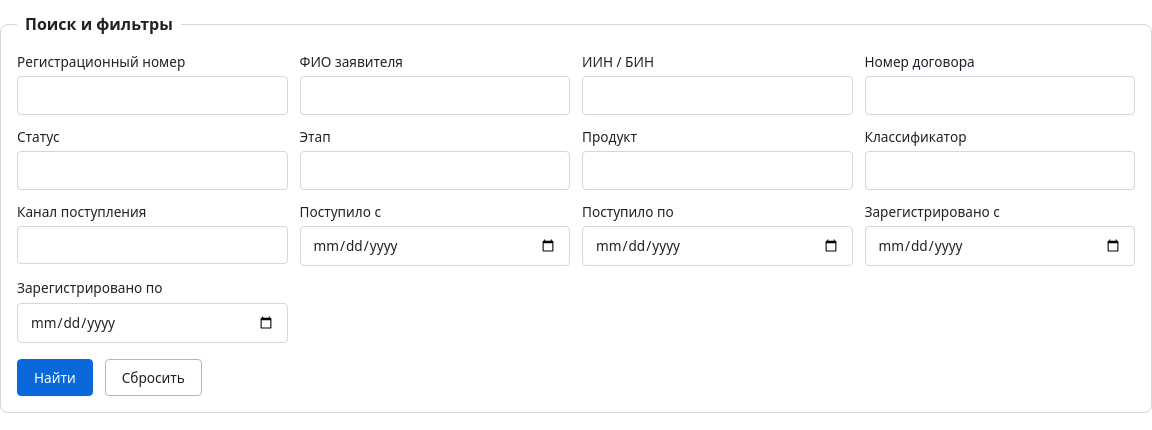
Test: TicketSearchForm › clears the fields and applies empty values on reset
Type "AP-2026-000123" into the field labelled "Регистрационный номер".
click(152, 96); type("AP-2026-000123")  # box [17,76,288,115]
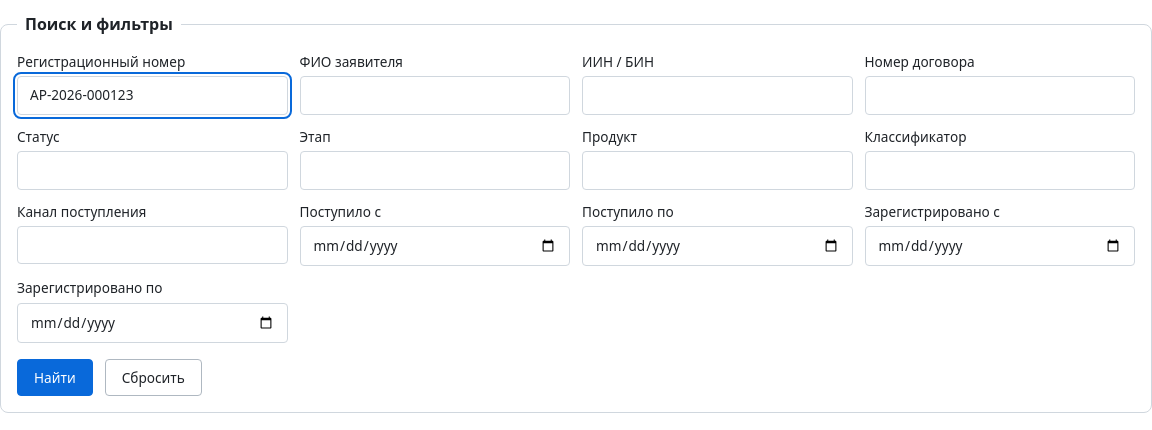
Click the button "Сбросить".
click(153, 378)  # box [105,359,202,396]
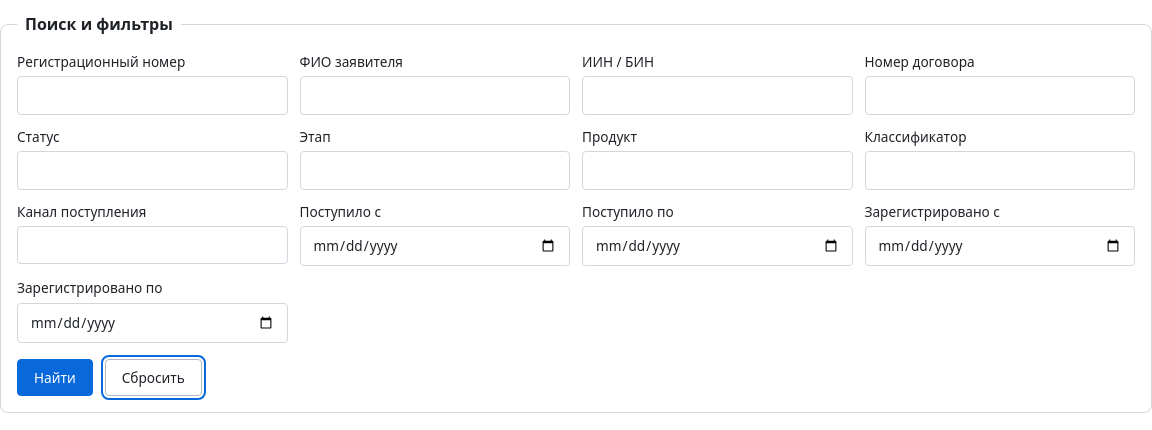
Expected: the field labelled "Регистрационный номер" is empty, [17,76,288,115]
